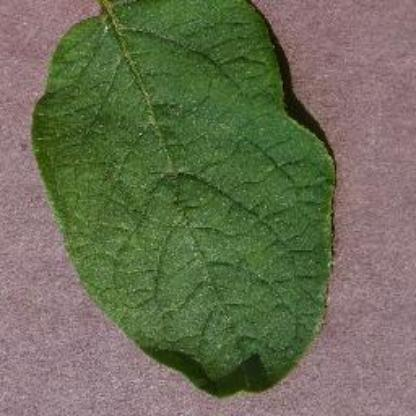Healthy-plant: (31, 1, 336, 397)
